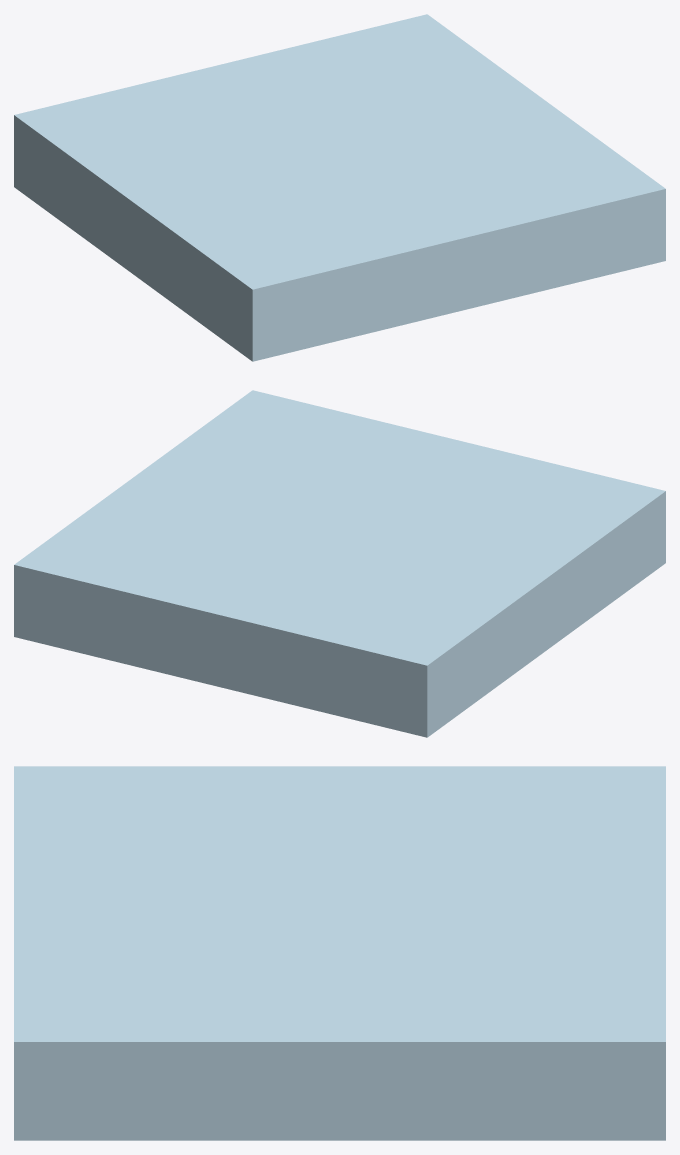
File: Deckenplatte.glb
3 views of the same model, one above another, from view 1: azimuth 30°, elevation 25°; view 2: azimuth 150°, elevation 25°; view 3: azimuth 270°, elevation 25° (orthographic). The views are drawn at different scales.
Parts seen in each view (by area): view 1: Deckenplatte; view 2: Deckenplatte; view 3: Deckenplatte.
Part boxes in pixels (x1,y1,x2,y2): Deckenplatte: (14, 14, 665, 361); Deckenplatte: (14, 390, 665, 737); Deckenplatte: (14, 766, 665, 1140).
Size of the model in its own units: 3 by 0.5 by 3.
